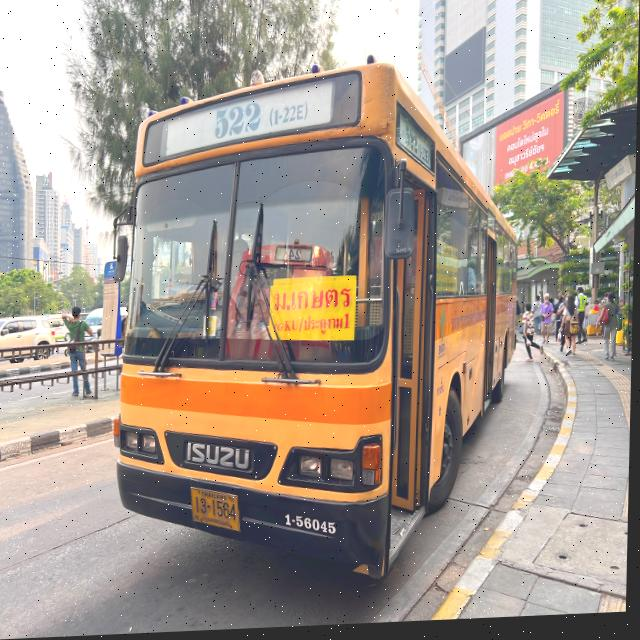BMTA-bus: (107, 31, 528, 602)
Bus Line Number: (212, 97, 310, 144)
Bus Side Number: (280, 510, 343, 544)
Destination Sign: (269, 284, 360, 349)
